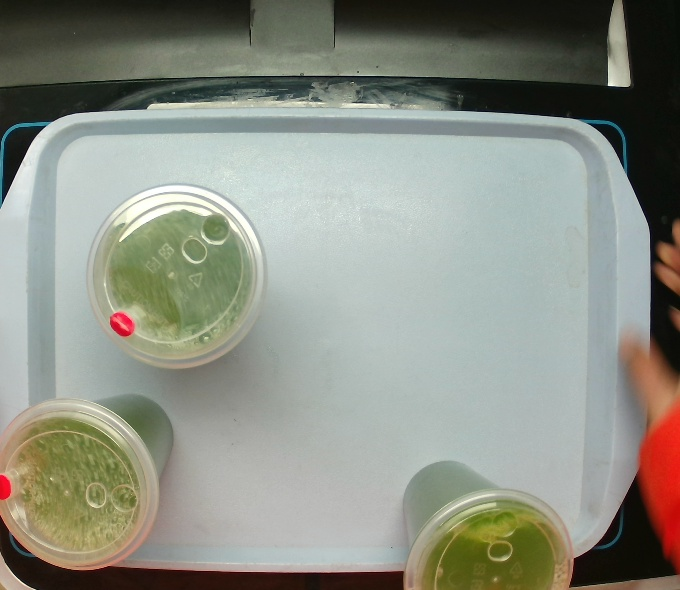wcq-HuangGuaZhi: (84, 181, 269, 371), (1, 390, 175, 573), (400, 459, 576, 590)
